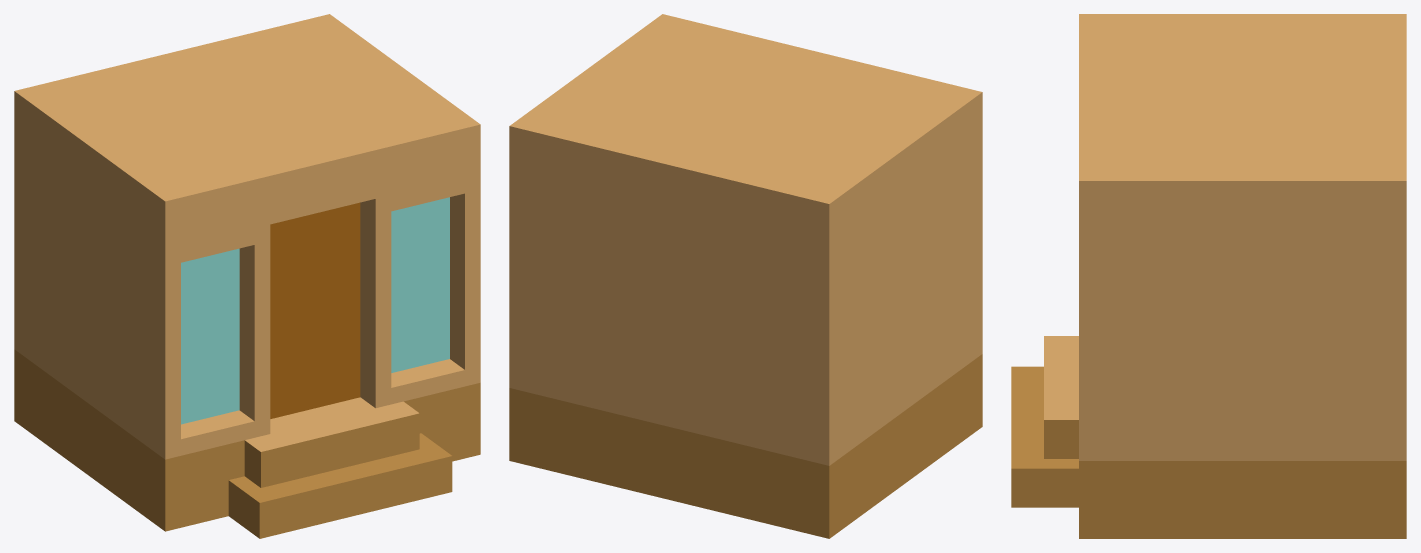
The model's file is Building Base.fbx.
3 renders of one model, left to right at view 1: azimuth 30°, elevation 25°; view 2: azimuth 150°, elevation 25°; view 3: azimuth 270°, elevation 25°, orthographic. The views are drawn at different scales.
Parts seen in each view (by area): view 1: base2; view 2: base2; view 3: base2.
Part boxes in pixels (left/top/right/bottom): base2: left=14, top=14, right=480, bottom=538; base2: left=509, top=14, right=982, bottom=538; base2: left=1011, top=14, right=1406, bottom=538.
Size of the model in its own units: 300 by 300 by 300.
